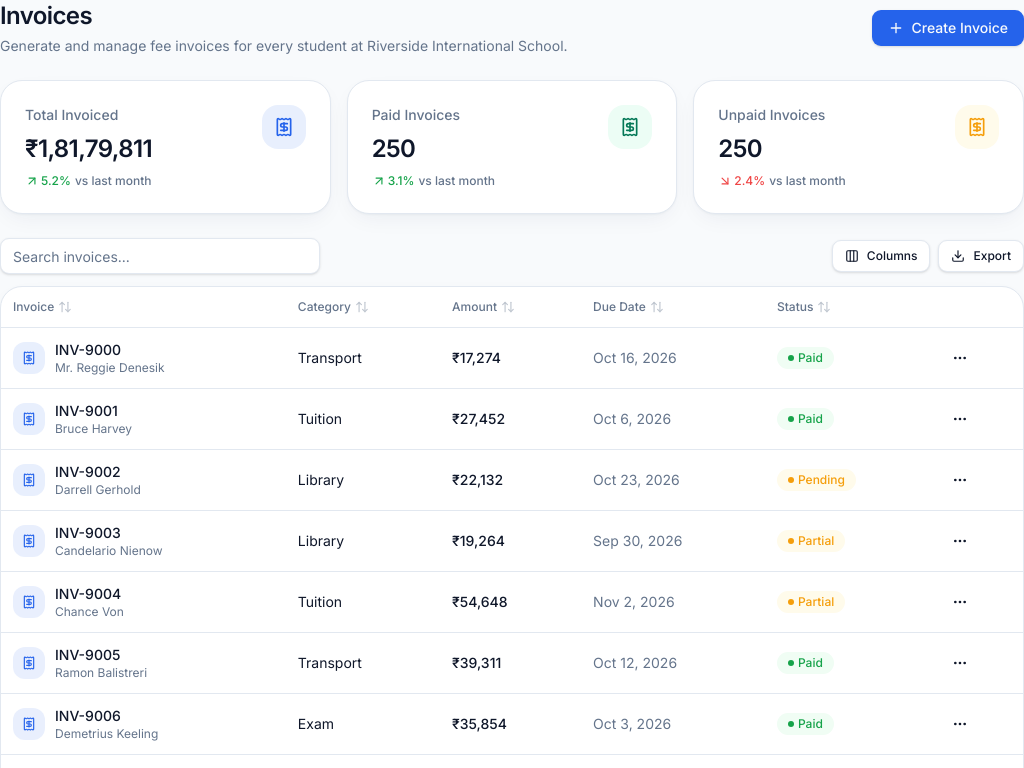
Test: InvoicesPage › rejects submission via zod validation when no student is selected
The width and height of the screenshot is (1024, 768).
Click the button "Create Invoice".
click(948, 28)  # box [872,10,1023,46]
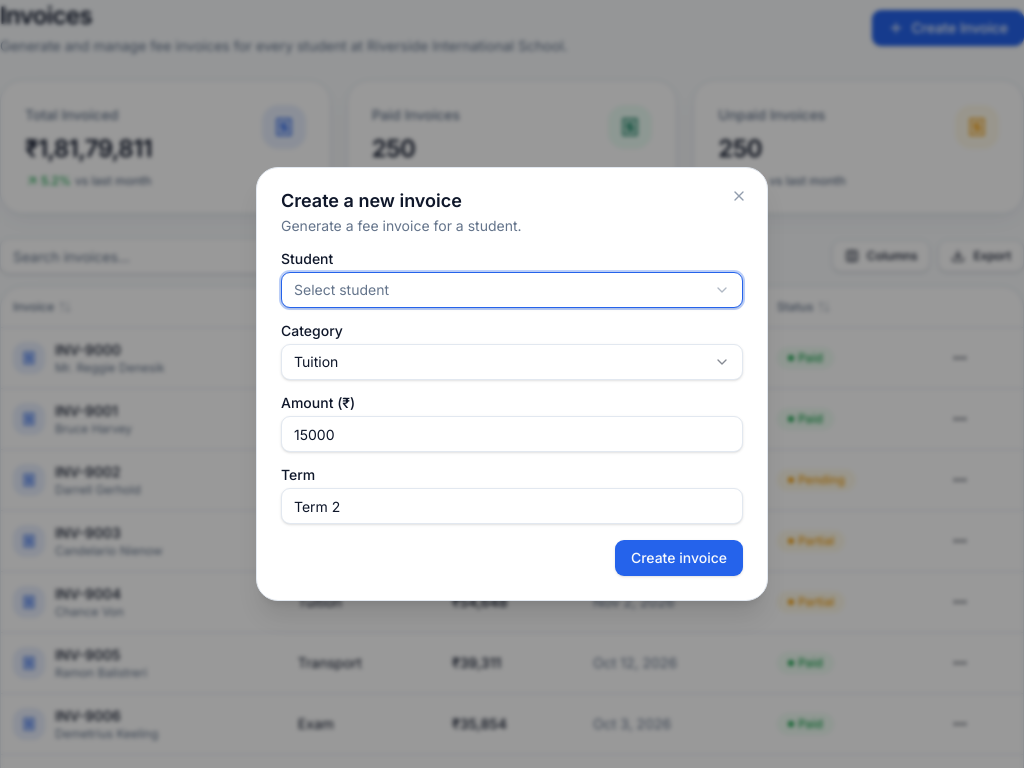
Click the button "Create invoice".
click(679, 558)  # box [615,540,743,576]
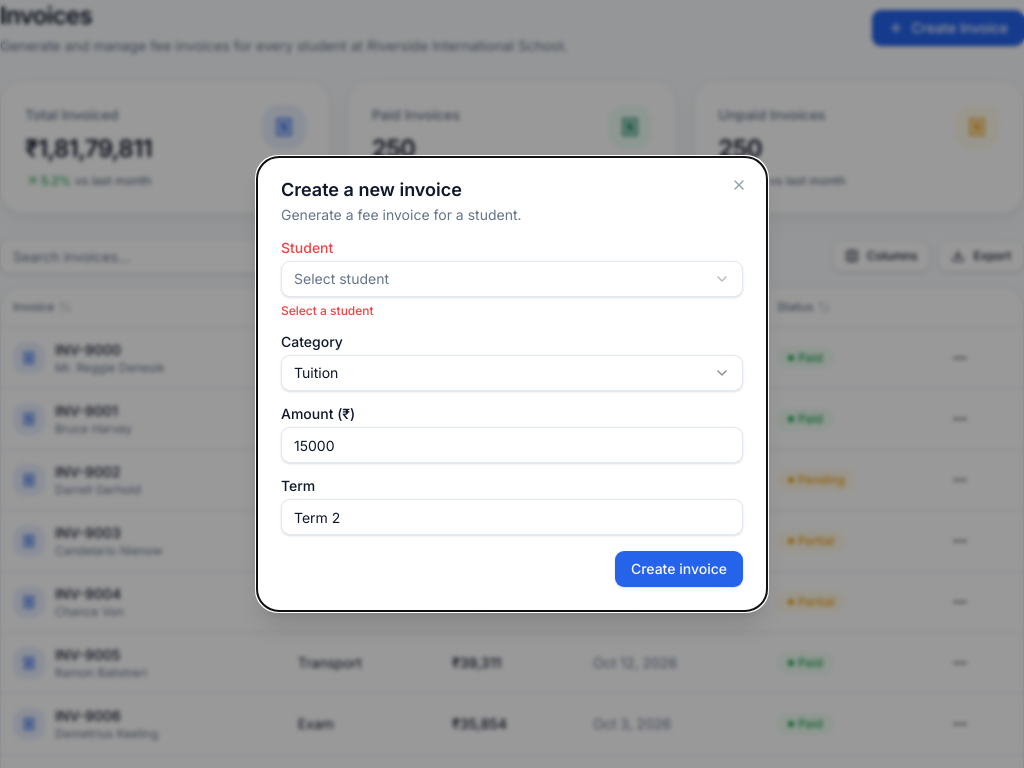
Expected: the dialog is shown, [256,156,768,612]
Expected: the text "Select a student" is shown, [281,303,374,318]
